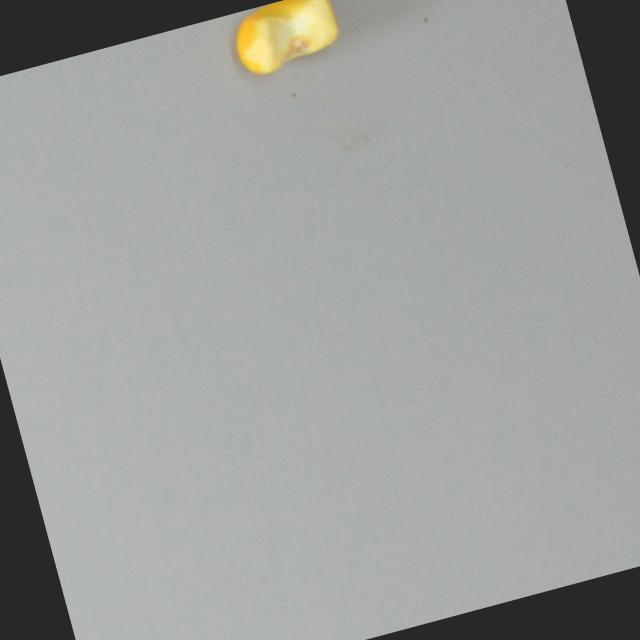dañado: (225, 0, 358, 104)
